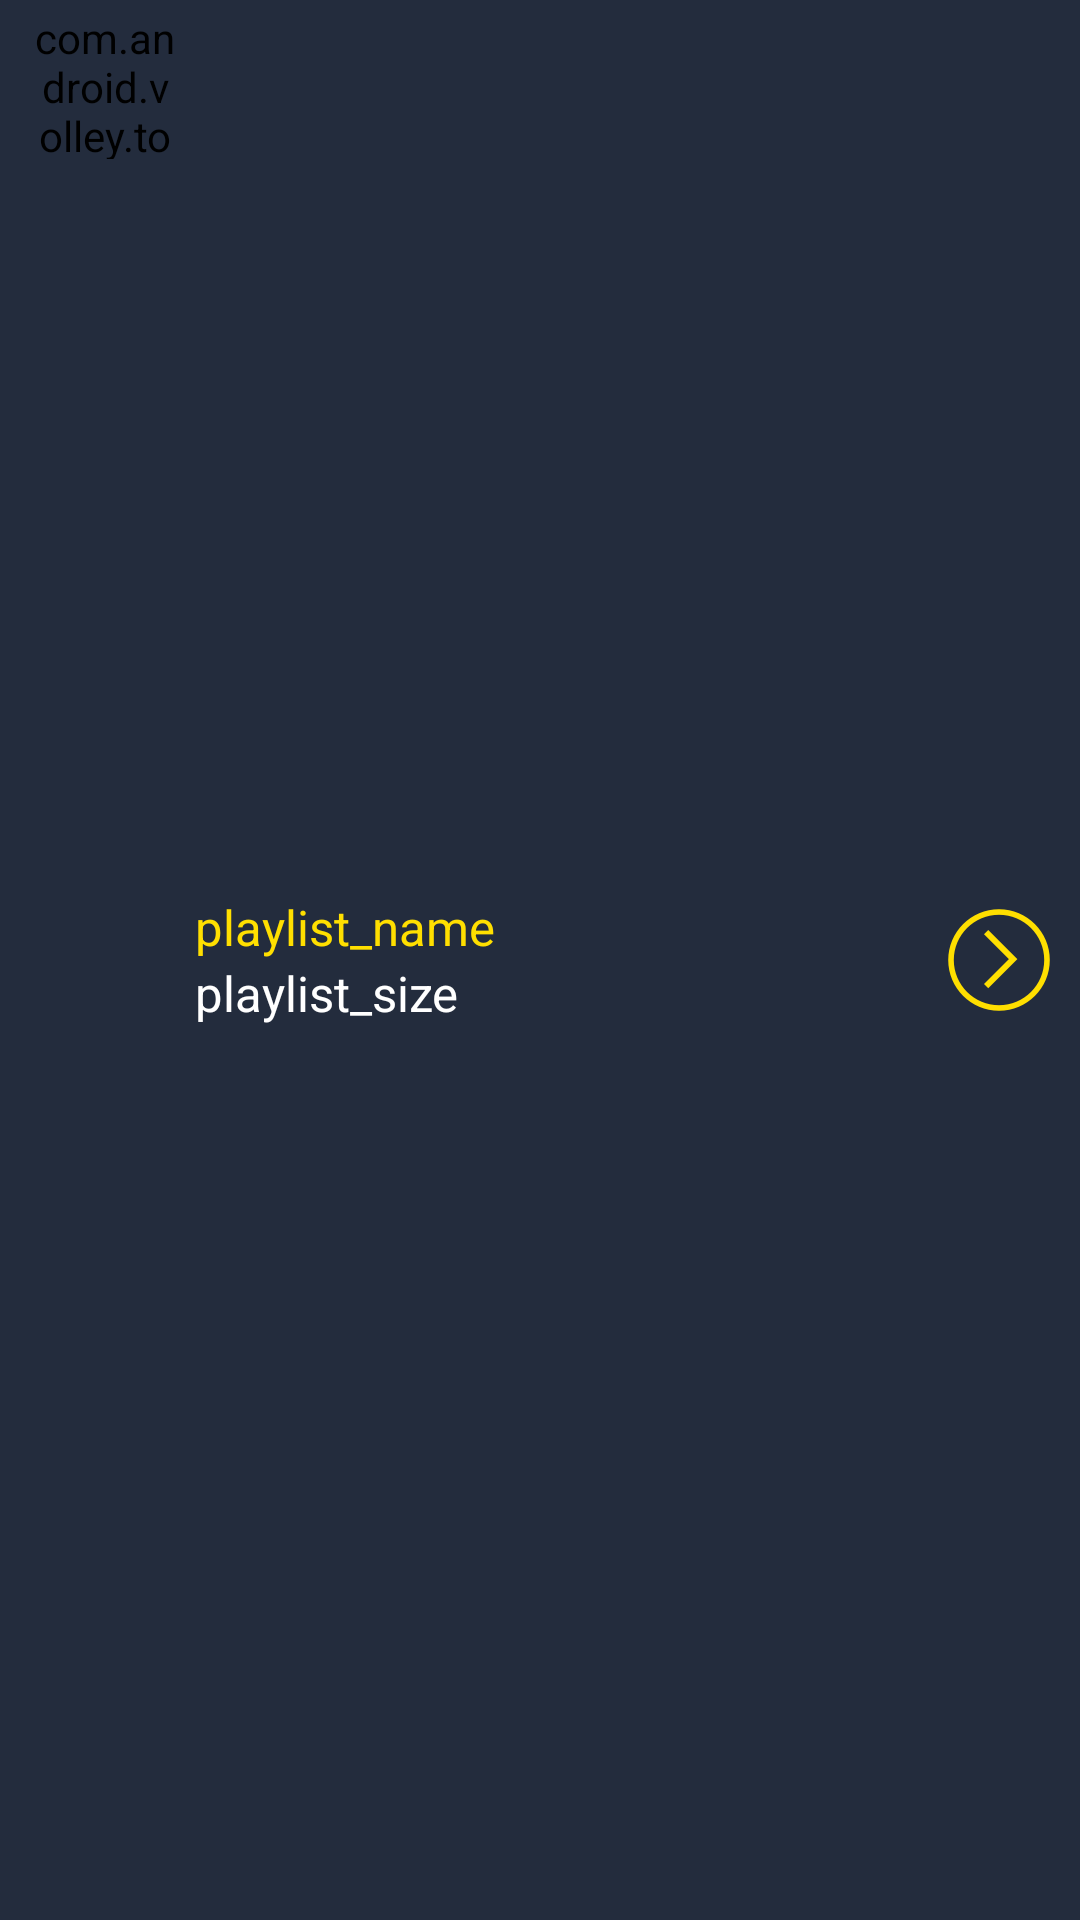

Where to tap for icons on this 1080*1920 app screen, as (x=x, y=y):
chevron circle right: (x=999, y=960)
